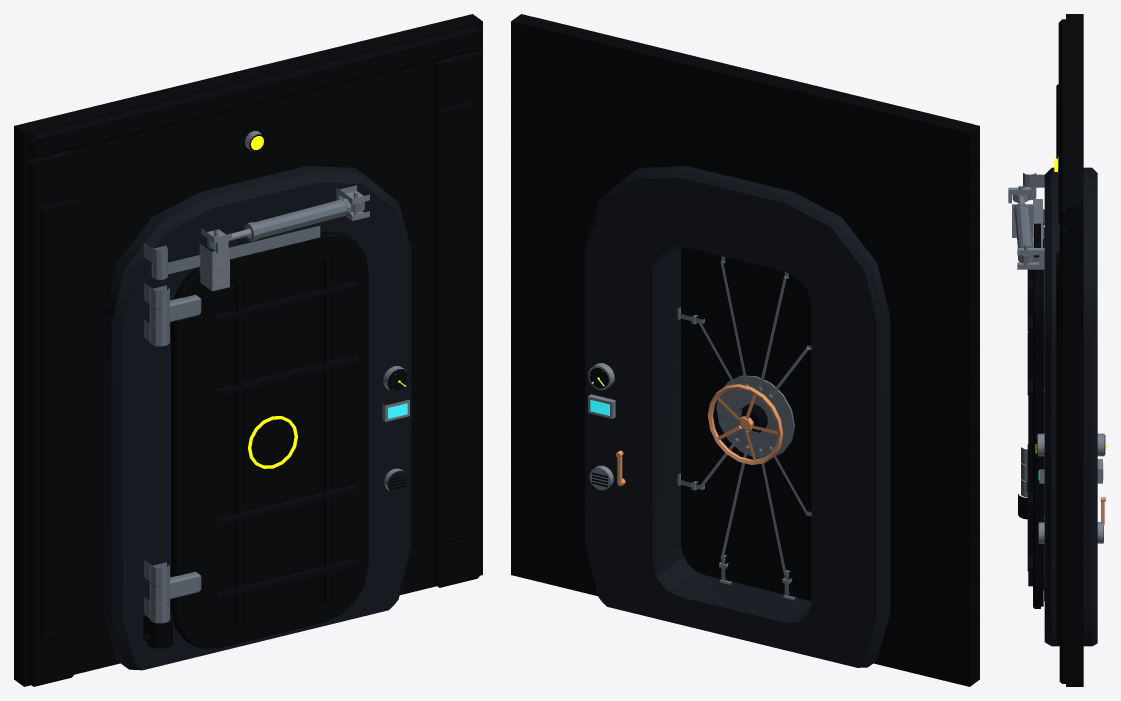
3 views of the same model, side by side, from view 1: azimuth 30°, elevation 25°; view 2: azimuth 150°, elevation 25°; view 3: azimuth 270°, elevation 25° (orthographic). The views are drawn at different scales.
Parts seen in each view (by area): view 1: bulkhead_frame, bulkhead_leaf_shell, bulkhead_frame_collar, bulkhead_Rib_back, bulkhead_HingeHeavy_leaf, bulkhead_HingeHeavy_frame, bulkhead_Damper_body, bulkhead_Davit_arm, bulkhead_leaf_damper_mount, bulkhead_Actuator_housing; view 2: bulkhead_frame, bulkhead_frame_collar, bulkhead_leaf_shell, bulkhead_LockWheel, bulkhead_OverrideOrange_Handwheel; view 3: bulkhead_frame, bulkhead_frame_collar, bulkhead_leaf_shell, bulkhead_Rib_back, bulkhead_Damper_body, bulkhead_leaf_damper_mount, bulkhead_damper_mount, bulkhead_Davit_arm, bulkhead_Gauge_housing_back, bulkhead_Davit_bracket, bulkhead_InflatableSeal, bulkhead_Gauge_housing_front (+2 smaller).
Boxes of the visible parts, x1,y1,x2,y2 form: bulkhead_frame: [14, 14, 482, 686]; bulkhead_leaf_shell: [171, 231, 368, 648]; bulkhead_frame_collar: [103, 166, 411, 670]; bulkhead_Rib_back: [214, 257, 358, 624]; bulkhead_HingeHeavy_leaf: [149, 294, 201, 604]; bulkhead_HingeHeavy_frame: [144, 282, 169, 623]; bulkhead_Damper_body: [244, 198, 364, 241]; bulkhead_Davit_arm: [151, 225, 320, 279]; bulkhead_leaf_damper_mount: [199, 228, 231, 291]; bulkhead_Actuator_housing: [142, 614, 172, 648]; bulkhead_frame: [511, 14, 979, 686]; bulkhead_frame_collar: [585, 166, 890, 667]; bulkhead_leaf_shell: [681, 246, 811, 600]; bulkhead_LockWheel: [716, 375, 794, 458]; bulkhead_OverrideOrange_Handwheel: [707, 384, 783, 464]; bulkhead_frame: [1056, 14, 1083, 686]; bulkhead_frame_collar: [1044, 167, 1097, 646]; bulkhead_leaf_shell: [1033, 222, 1043, 608]; bulkhead_Rib_back: [1027, 262, 1032, 586]; bulkhead_Damper_body: [1013, 203, 1033, 263]; bulkhead_leaf_damper_mount: [1008, 186, 1033, 237]; bulkhead_damper_mount: [1017, 246, 1044, 269]; bulkhead_Davit_arm: [1023, 186, 1042, 262]; bulkhead_Gauge_housing_back: [1097, 433, 1104, 483]; bulkhead_Davit_bracket: [1023, 173, 1044, 187]; bulkhead_InflatableSeal: [1044, 227, 1044, 601]; bulkhead_Gauge_housing_front: [1037, 433, 1044, 483].
Size of what is drawn, in the model's own units: 2.6 by 3 by 0.557.
11 materials, 5 textured.
